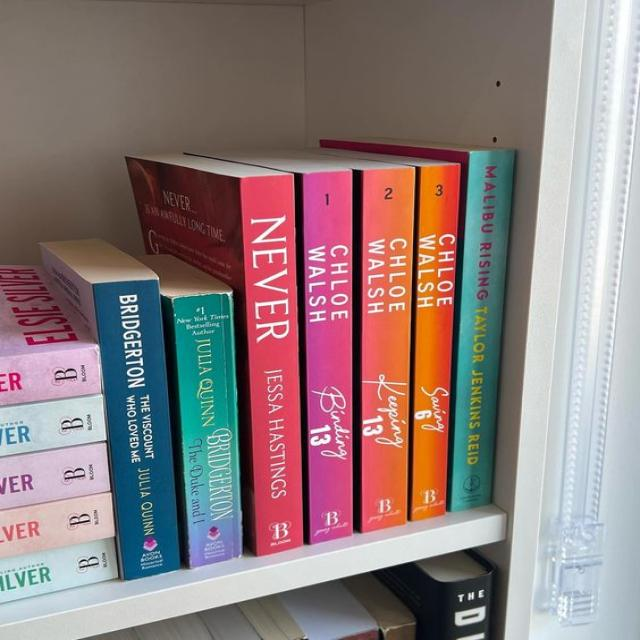book: (93, 280, 181, 580), (240, 175, 305, 555), (453, 150, 516, 509), (171, 292, 242, 567), (363, 168, 415, 533), (304, 171, 352, 545), (414, 163, 460, 521)
